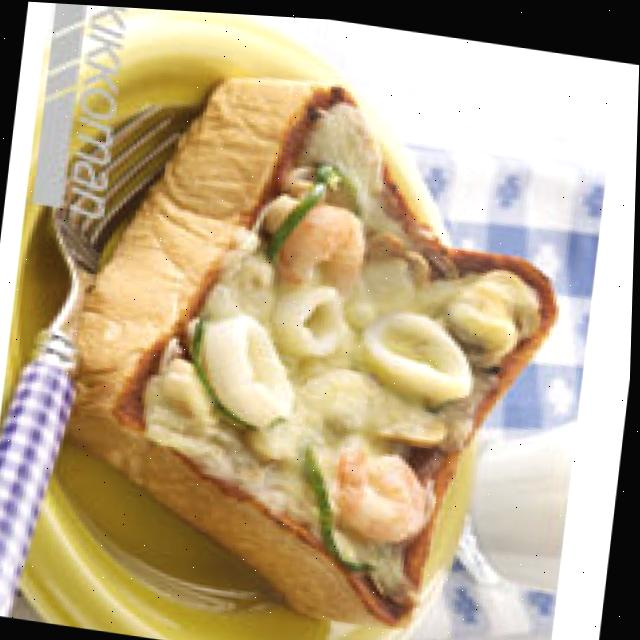面包点心: (43, 33, 586, 640)
